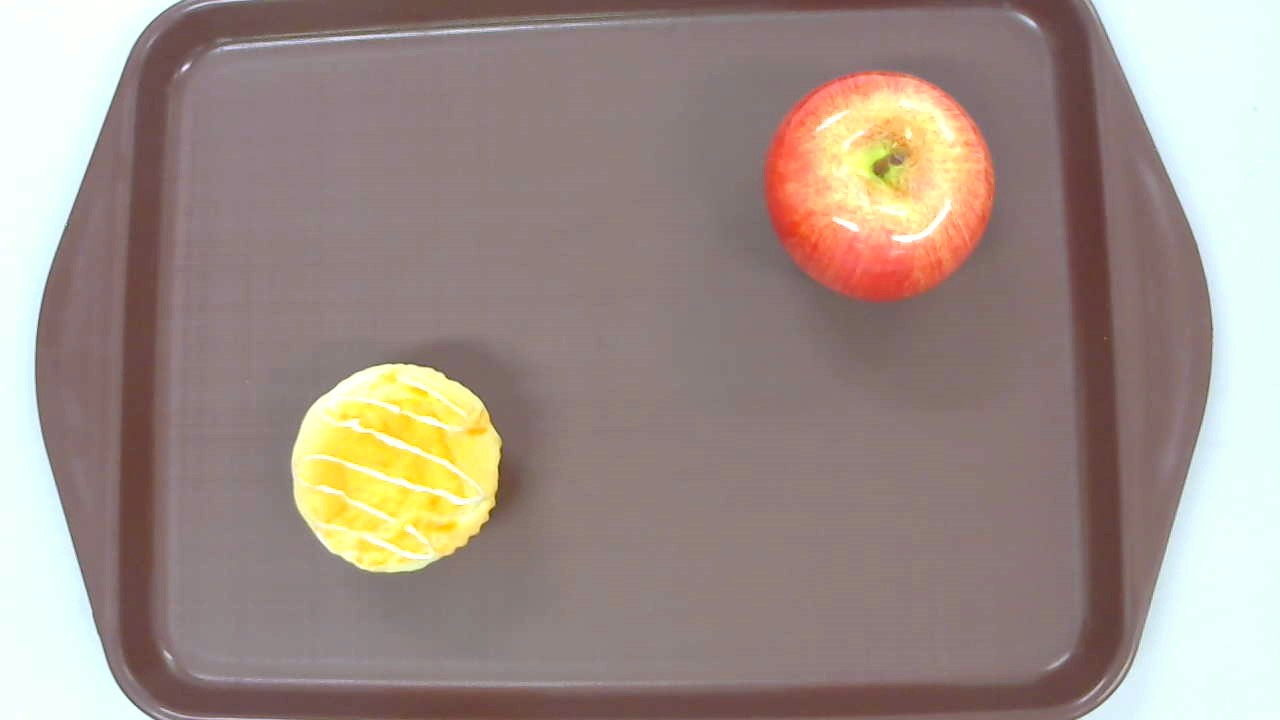cupcake: (290, 362, 502, 574)
red apple: (762, 67, 993, 305)
